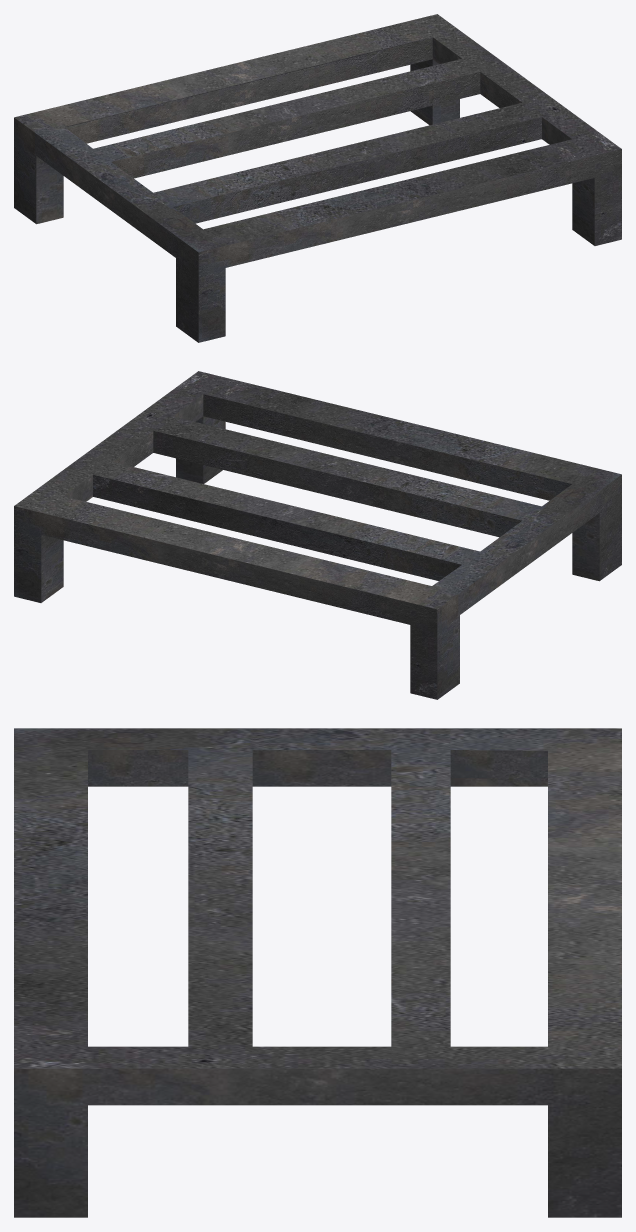
File: Tray Platform Model.fbx
3 views of the same model, one above another, from view 1: azimuth 30°, elevation 25°; view 2: azimuth 150°, elevation 25°; view 3: azimuth 270°, elevation 25° (orthographic). The views are drawn at different scales.
Visible parts, largest first — view 1: Baking_Tray; view 2: Baking_Tray; view 3: Baking_Tray.
Part boxes in pixels (box(x1,y1,x2,y2)): Baking_Tray: box(14, 14, 621, 342); Baking_Tray: box(14, 371, 621, 699); Baking_Tray: box(14, 728, 621, 1217).
Bounding box in the file's own units: 12.89 × 2.63 × 9.73.
Materials: 1 (1 with a texture image).
